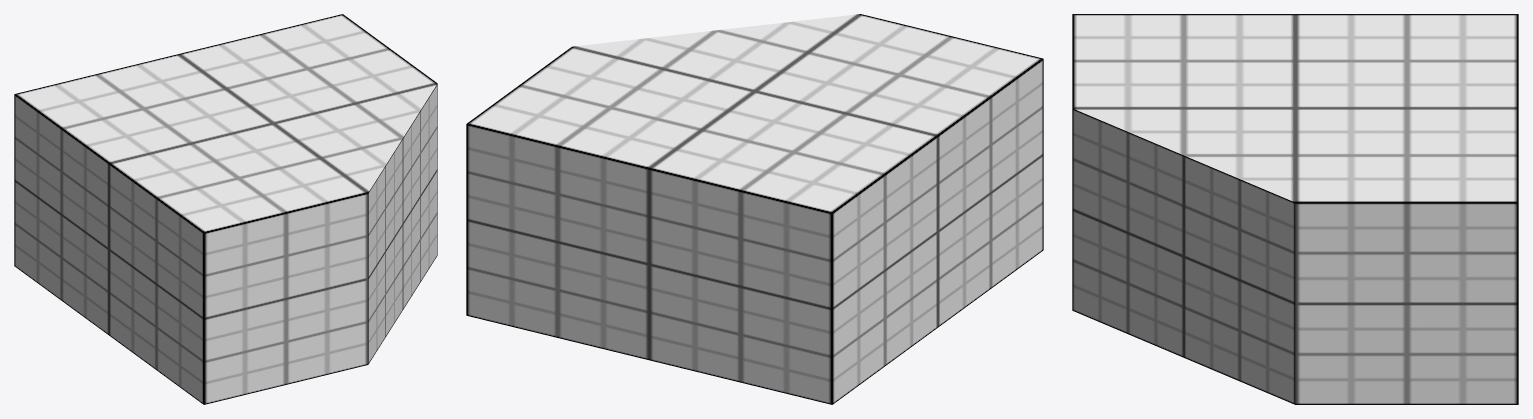
The model's file is triangular-1.fbx.
The picture shows the model from 3 angles, left to right: view 1: azimuth 30°, elevation 25°; view 2: azimuth 150°, elevation 25°; view 3: azimuth 270°, elevation 25°; orthographic projection. The views are drawn at different scales.
Visible parts, largest first — view 1: Yplus, Xminus, Zplus, Object; view 2: Zminus, Yplus, Xminus; view 3: Yplus, Xplus, Object.
Boxes of the visible parts, x1=… form: Yplus: x1=14, y1=14, x2=437, y2=232; Xminus: x1=14, y1=94, x2=203, y2=404; Zplus: x1=204, y1=193, x2=368, y2=404; Object: x1=368, y1=84, x2=437, y2=364; Zminus: x1=466, y1=124, x2=832, y2=404; Yplus: x1=467, y1=14, x2=1043, y2=213; Xminus: x1=832, y1=59, x2=1043, y2=404; Yplus: x1=1072, y1=14, x2=1518, y2=202; Xplus: x1=1295, y1=202, x2=1518, y2=404; Object: x1=1072, y1=108, x2=1295, y2=404.
Size of the model in its own units: 100 by 50 by 100.
